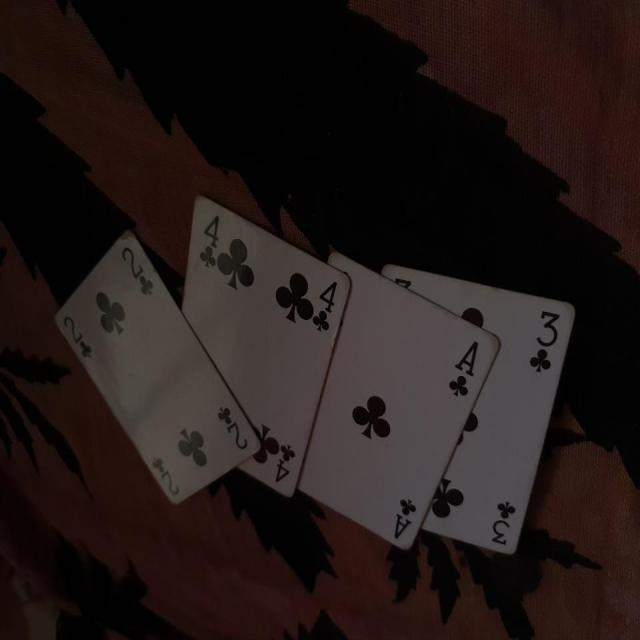2 Trefoils: (52, 232, 264, 508)
3 Trefoils: (380, 261, 574, 558)
4 Trefoils: (180, 193, 352, 499)
A Trefoils: (299, 249, 502, 550)
